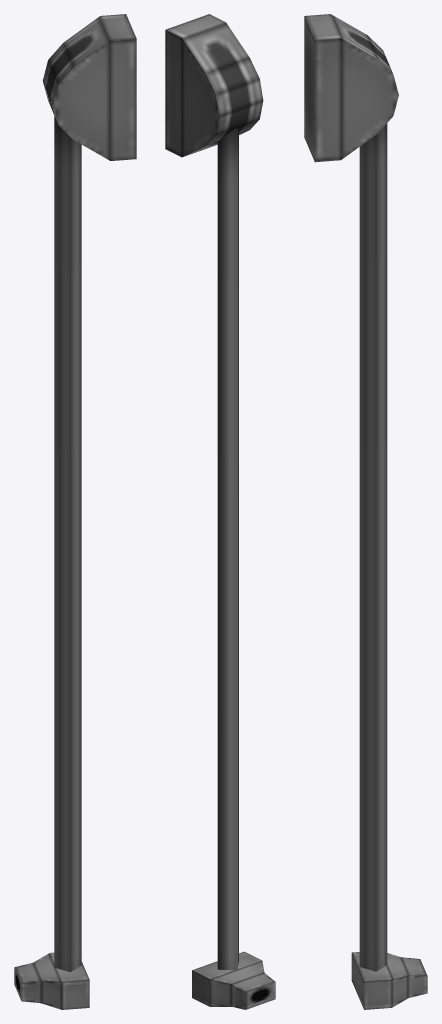
The model's file is Apollo_Block2_DockingLight.dae.
The picture shows the model from 3 angles, left to right: view 1: azimuth 90°, elevation 25°; view 2: azimuth 210°, elevation 25°; view 3: azimuth 270°, elevation 25°; orthographic projection. The views are drawn at different scales.
Visible parts, largest first — view 1: LightArm, Apollo_DockingLight, Light; view 2: LightArm, Apollo_DockingLight, Light; view 3: LightArm, Apollo_DockingLight, Light.
Boxes of the visible parts, <box> form: LightArm: <box>54,116,81,972</box>; Apollo_DockingLight: <box>42,14,136,160</box>; Light: <box>14,952,89,1009</box>; LightArm: <box>217,128,238,970</box>; Apollo_DockingLight: <box>165,14,263,157</box>; Light: <box>192,951,275,1009</box>; LightArm: <box>359,123,387,971</box>; Apollo_DockingLight: <box>304,14,398,162</box>; Light: <box>351,952,427,1009</box>.
Size of the model in its own units: 0.0525 by 0.728 by 0.0836.
